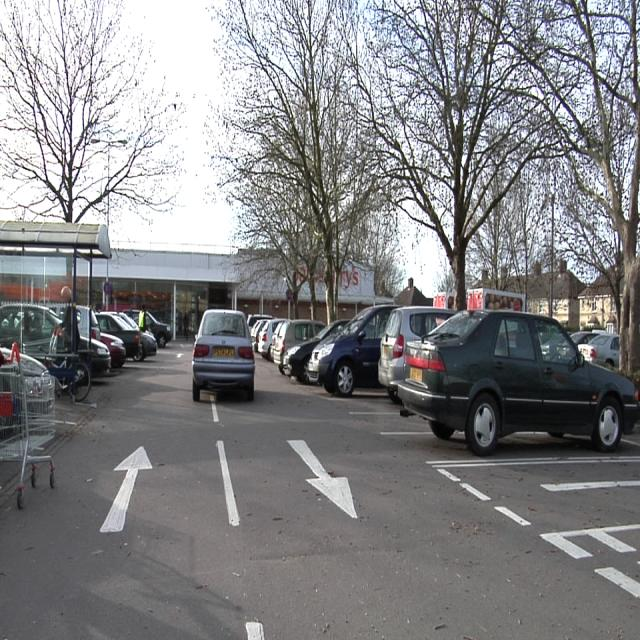Car: (295, 308, 639, 453), (192, 310, 254, 399), (83, 309, 156, 369), (1, 303, 62, 355)
Road: (0, 346, 639, 623)
Tree: (219, 0, 640, 375), (2, 2, 183, 219)
